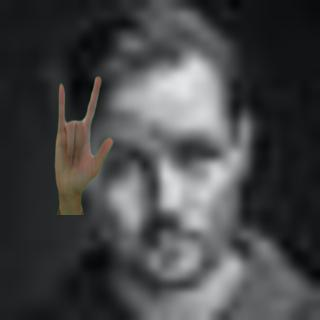ILY: (49, 74, 116, 197)
